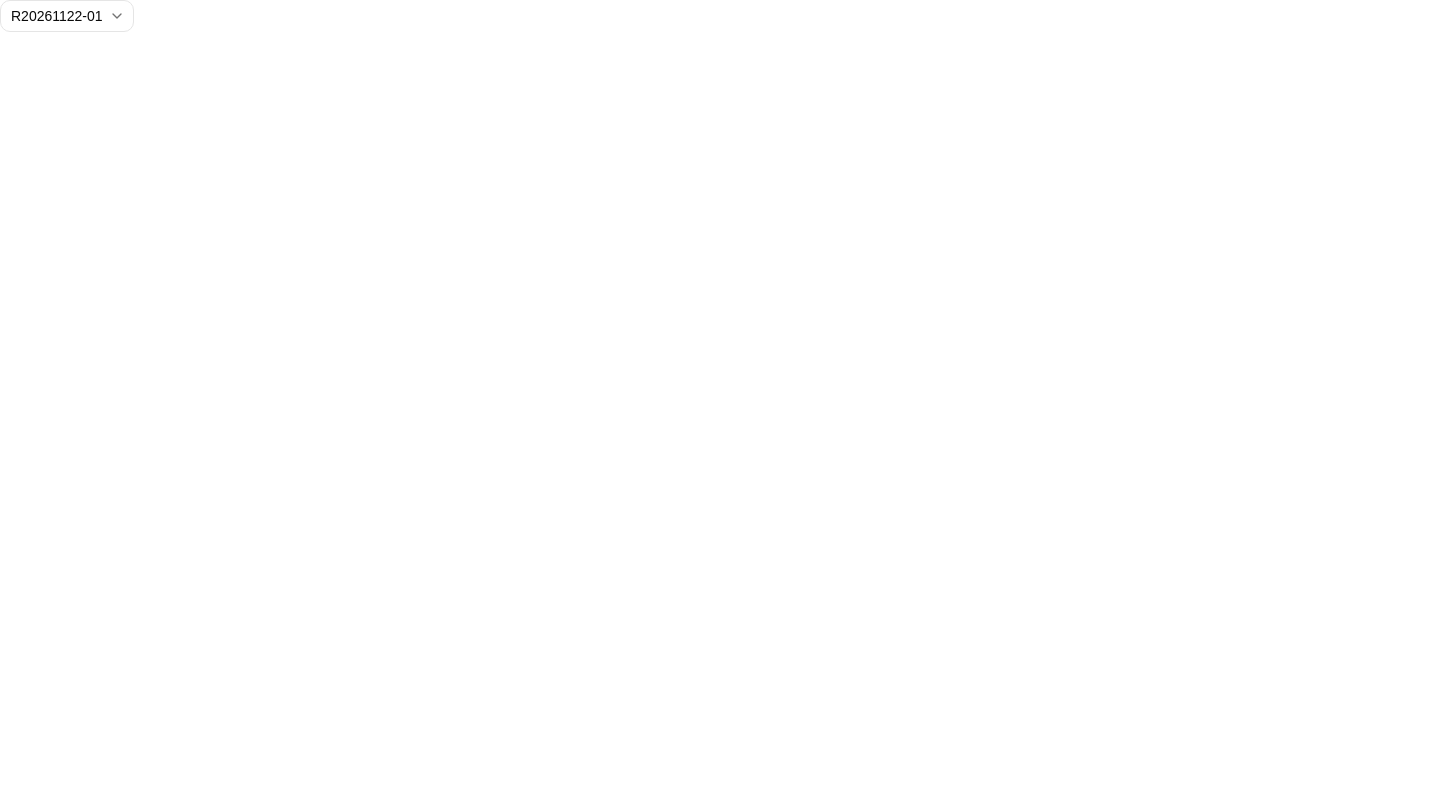
Test: SearchableSelect › keeps pinned options visible and shows an empty hint without matches
The width and height of the screenshot is (1440, 810).
Later steps or results of the test are not shown.
Click the button named "轮次：R20261122-01".
click(67, 16)  # box top-left (0, 0), bottom-right (134, 32)
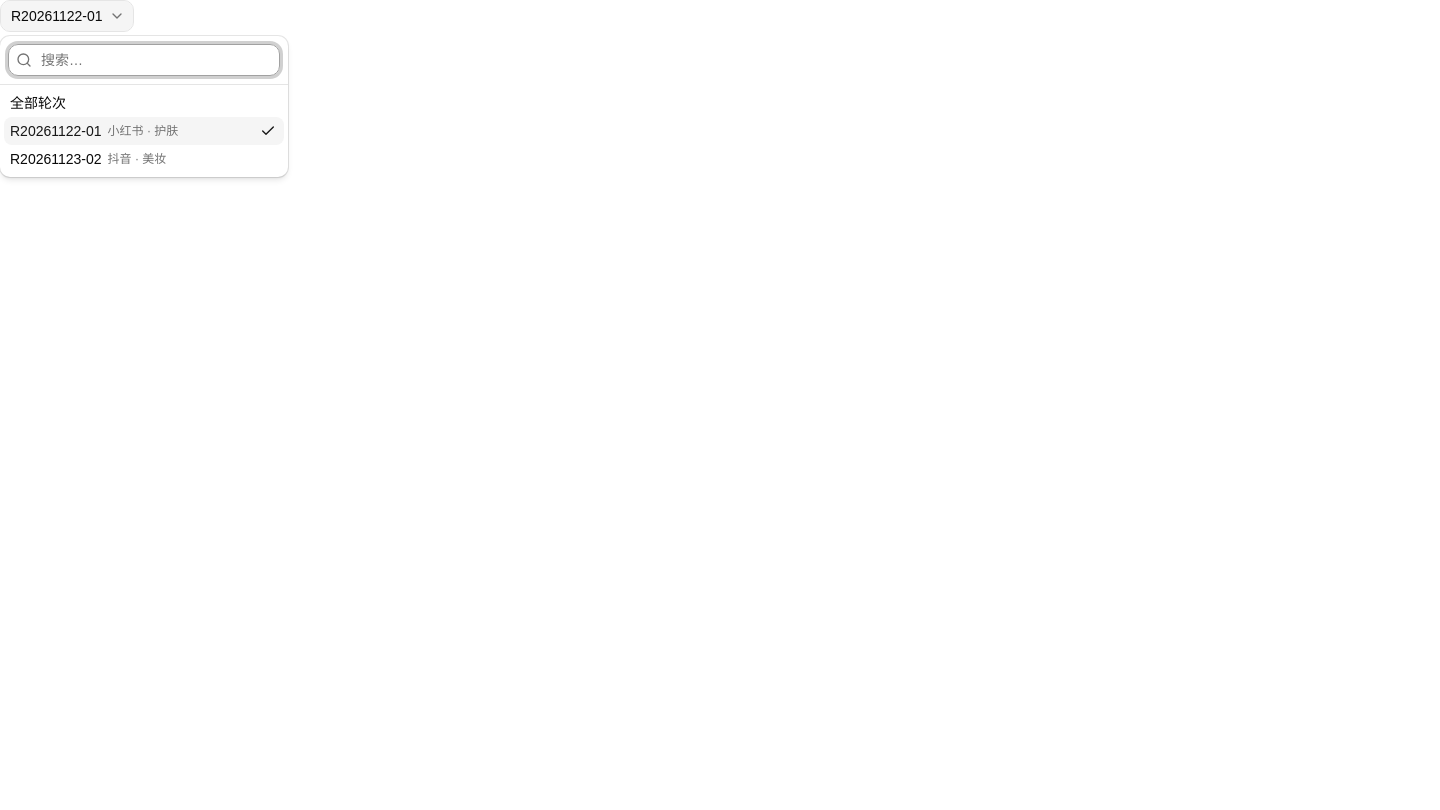
Type "zzz" into the dropdown named "搜索轮次".
click(144, 60); type("zzz")  # box top-left (8, 44), bottom-right (280, 76)
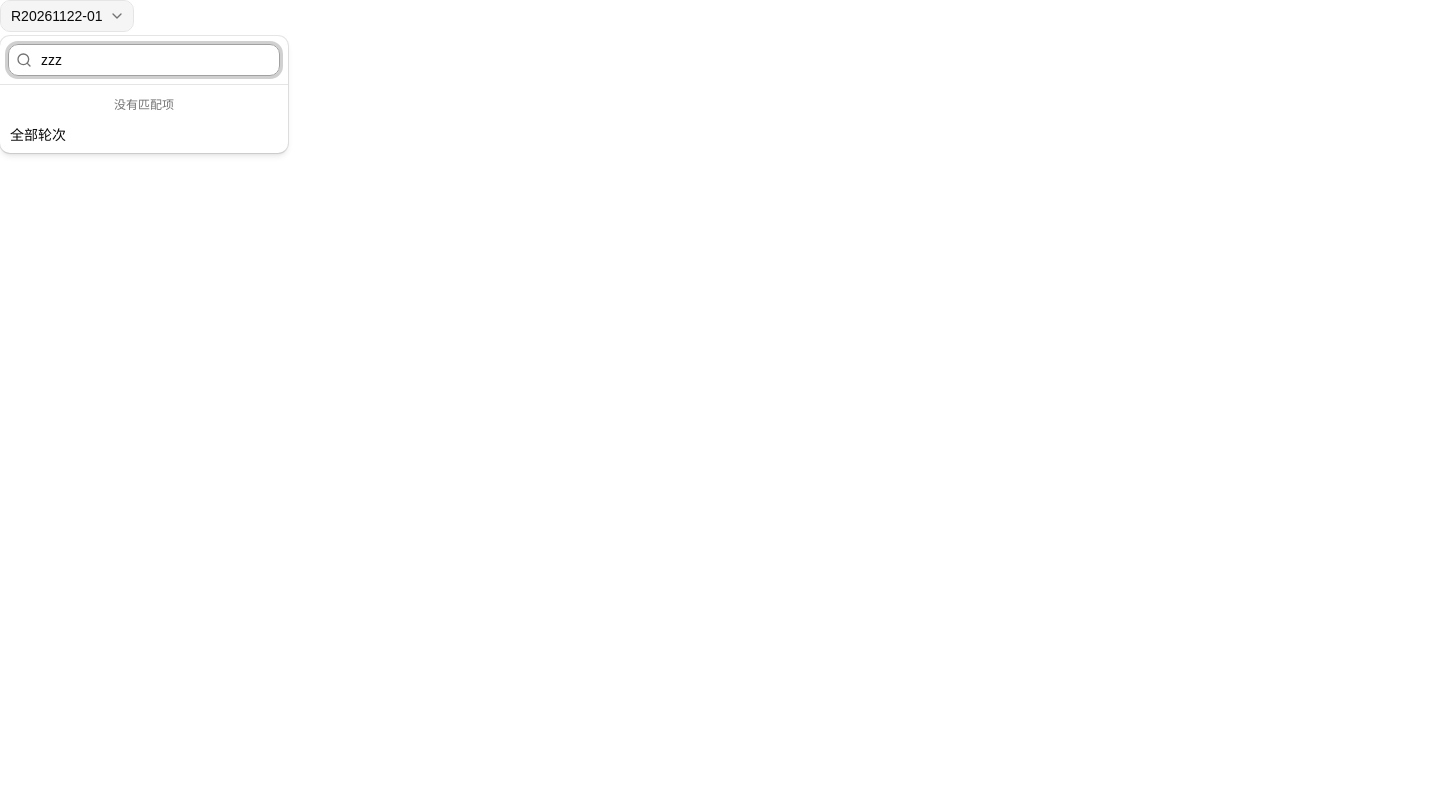
Check: the option "全部轮次" is shown, box top-left (4, 121), bottom-right (284, 149)
Check: the text "没有匹配项" is shown, box top-left (114, 98), bottom-right (174, 112)
